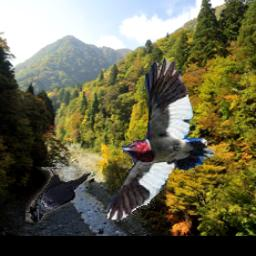Crow: (24, 167, 90, 222)
Woodpecker: (106, 58, 217, 222)
